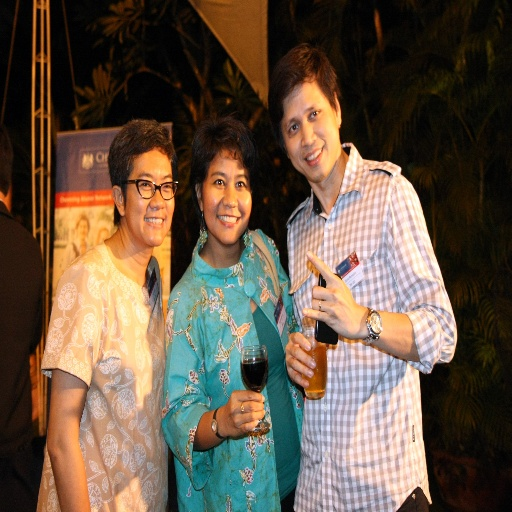hand: (305, 260, 376, 352), (282, 326, 323, 392), (219, 387, 265, 441)
